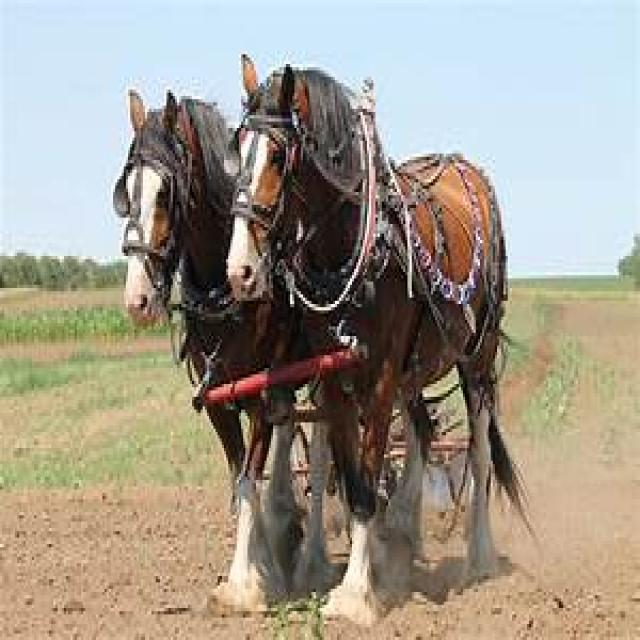horse: (222, 51, 537, 608), (111, 83, 380, 618)
